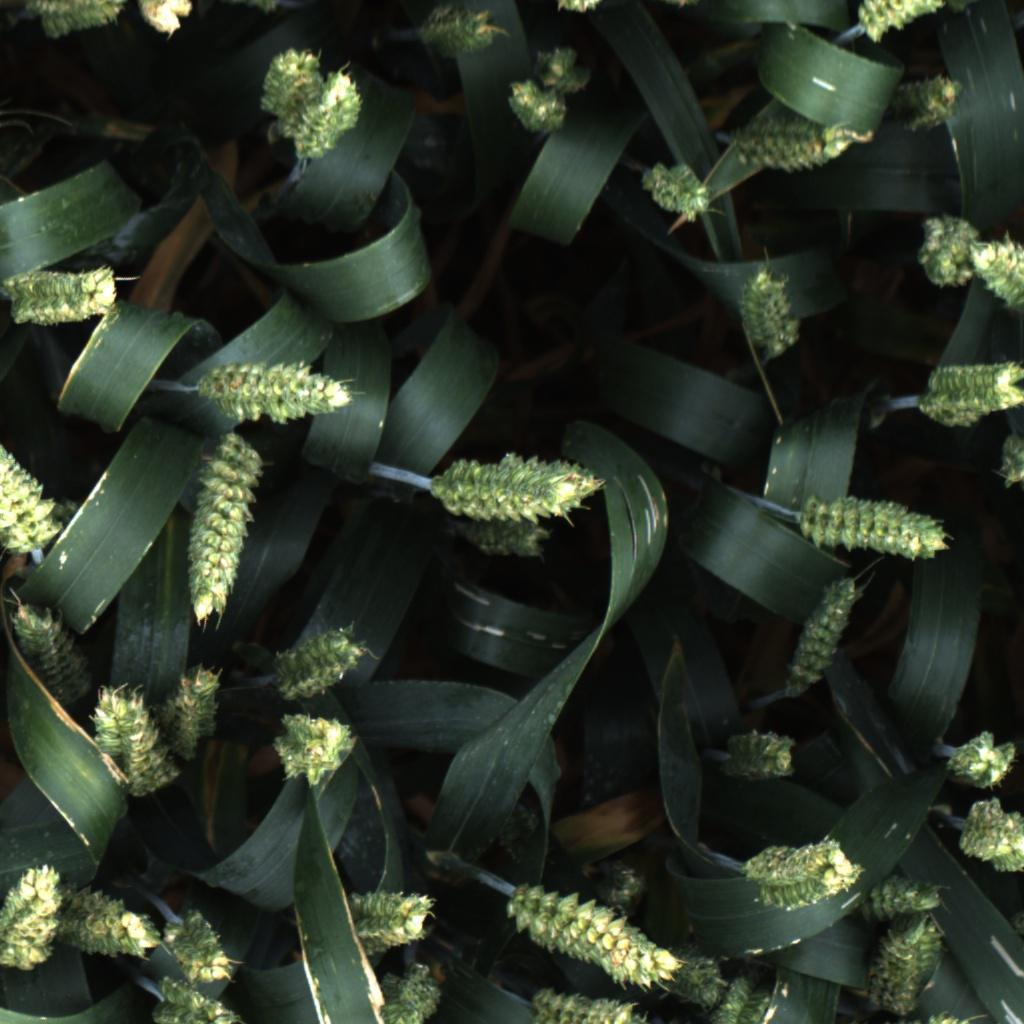0-0: (505, 886, 677, 989), (185, 429, 262, 629), (429, 449, 612, 528), (791, 489, 956, 563), (92, 684, 187, 808), (194, 361, 361, 427), (777, 575, 866, 696), (745, 828, 867, 914), (5, 593, 94, 707), (856, 914, 947, 1014), (269, 615, 369, 706), (58, 879, 164, 959), (0, 262, 120, 329), (0, 422, 61, 553), (916, 354, 1024, 427), (254, 44, 330, 143), (727, 260, 804, 357), (731, 117, 859, 175), (158, 655, 228, 761), (0, 860, 65, 974), (287, 69, 364, 164), (265, 707, 355, 787), (352, 883, 435, 956), (162, 904, 239, 980), (716, 722, 802, 788), (909, 210, 979, 290), (886, 70, 966, 139), (957, 795, 1024, 877), (938, 729, 1021, 795), (419, 1, 506, 61), (640, 159, 719, 224), (660, 940, 729, 1014), (968, 237, 1024, 323), (857, 0, 961, 44), (504, 76, 572, 143), (149, 973, 237, 1024), (526, 991, 656, 1024), (378, 960, 443, 1024), (462, 515, 550, 562), (27, 0, 128, 40), (864, 873, 947, 921), (590, 852, 654, 911), (528, 44, 592, 99), (703, 979, 776, 1024), (128, 0, 200, 40), (992, 427, 1024, 495), (194, 0, 280, 21), (1008, 894, 1024, 964), (552, 0, 620, 15), (952, 0, 1013, 13)
